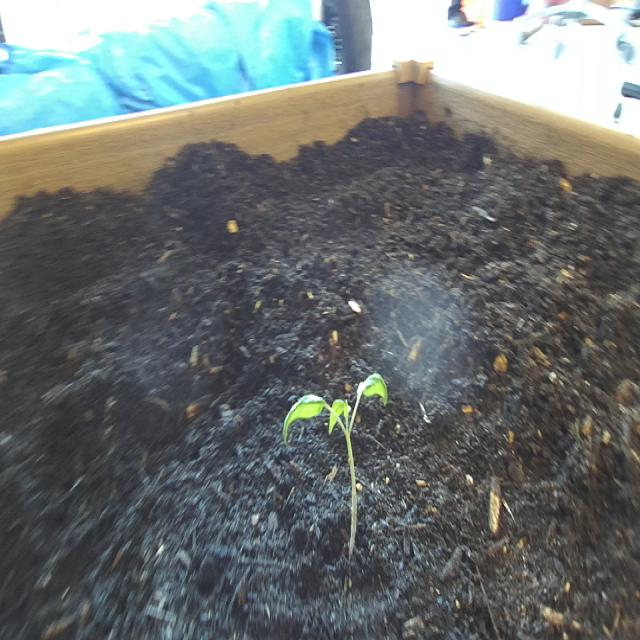Healthy: (278, 369, 391, 580)
